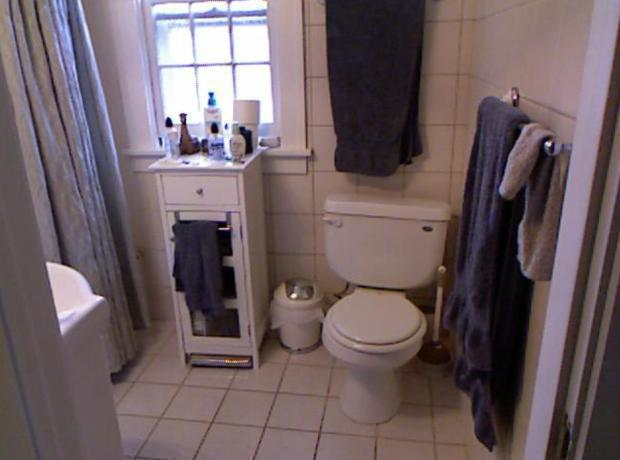Bote de Basura: (266, 279, 321, 361)
Sanitario: (315, 193, 455, 437)
